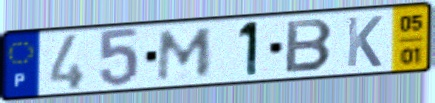1: (233, 19, 261, 80)
4: (47, 31, 87, 92)
5: (96, 25, 141, 90)
B: (283, 17, 336, 75)
K: (344, 14, 385, 69)
M: (154, 26, 216, 84)
